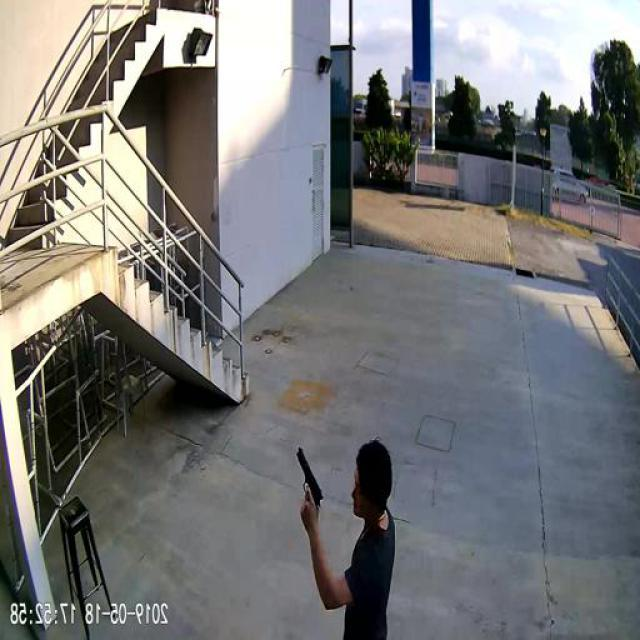Gun: (298, 442, 326, 508)
